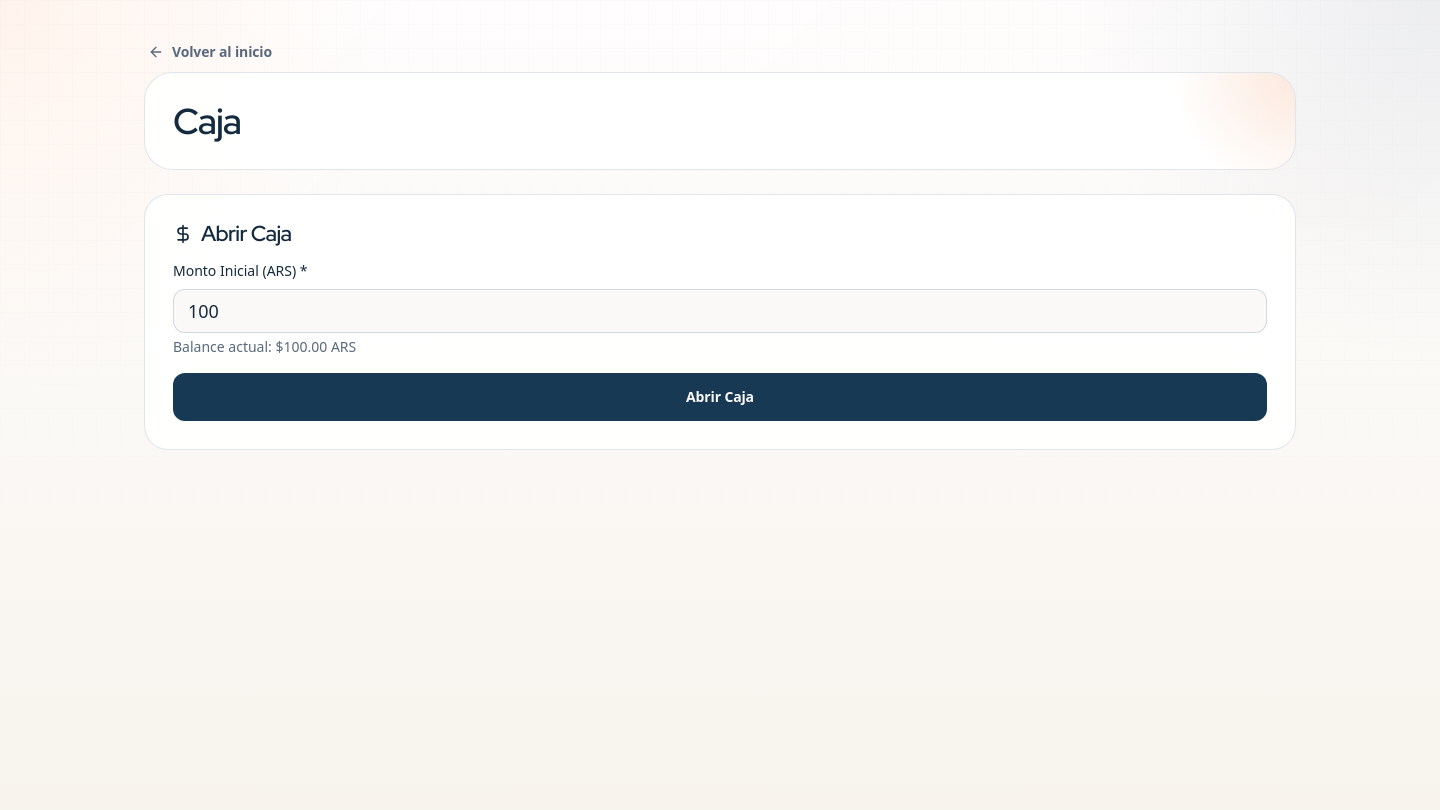
dashboard cash register page › shows difference confirmation and allows cancel on open
Expected: the text "Monto Inicial (ARS) *" is shown, [173, 264, 308, 278]
Replace the text in the number field labelled "Monto Inicial (ARS) *" with "130" at (720, 311), box [173, 289, 1267, 333]
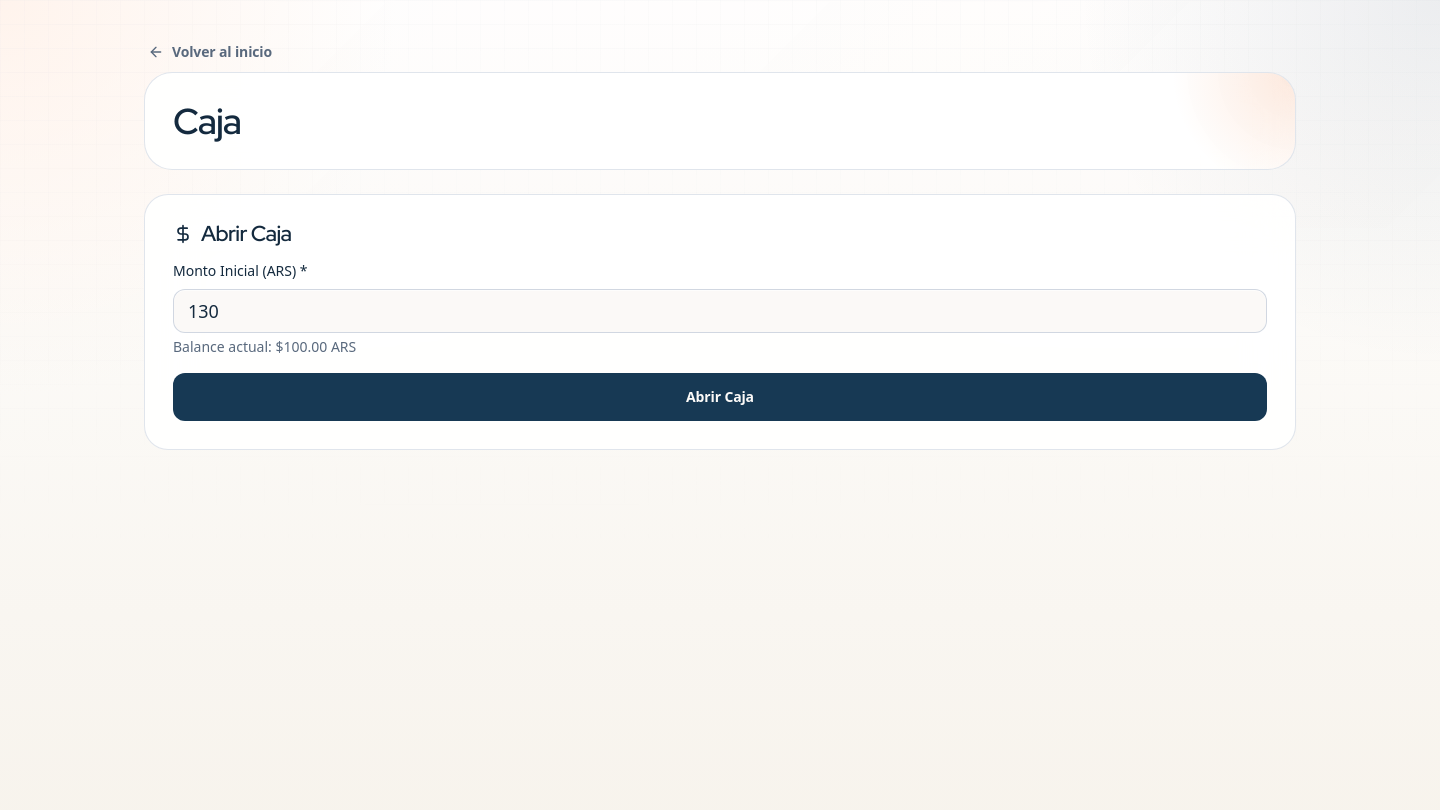
Click the button "Abrir Caja".
click(720, 397)  # box [173, 373, 1267, 421]
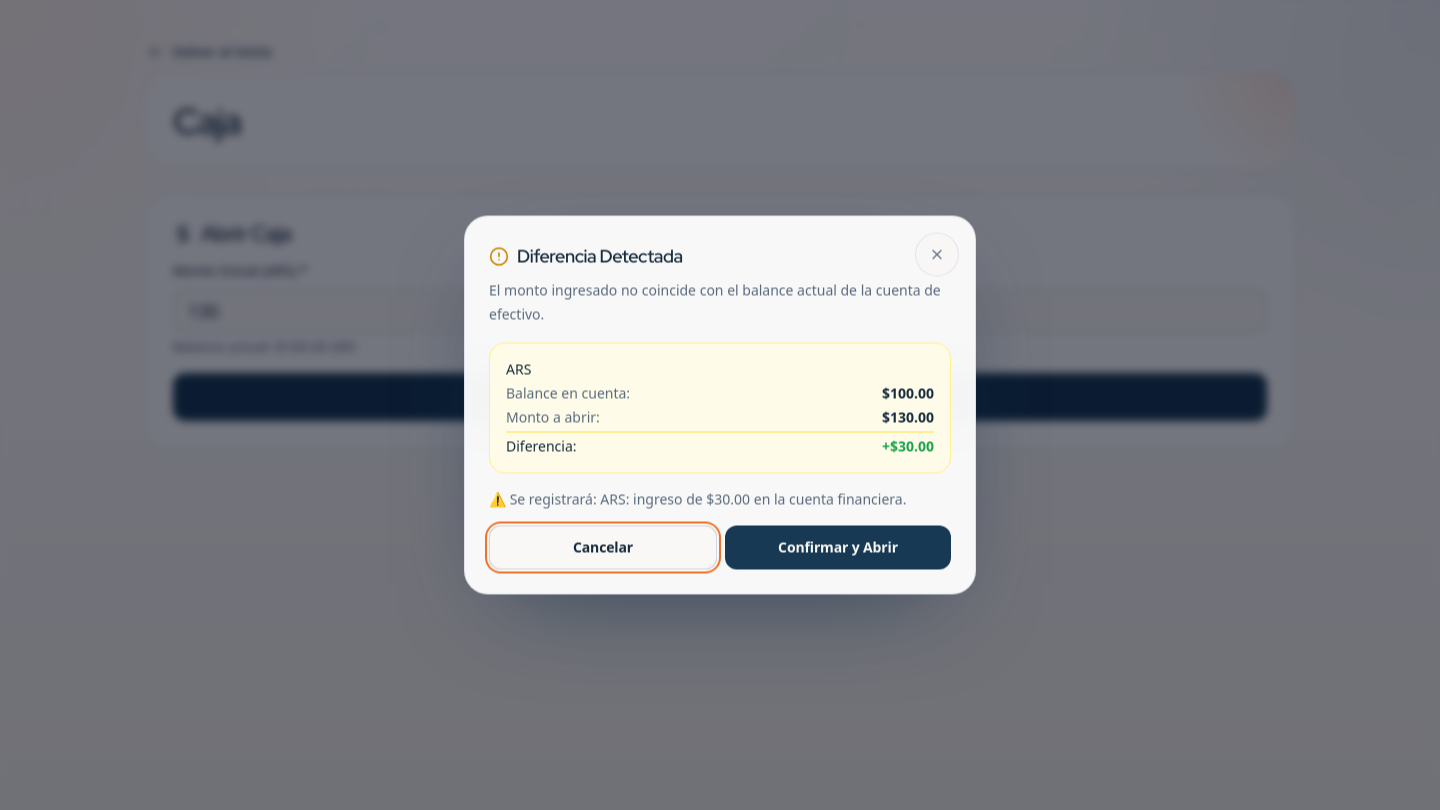
Expected: the heading "Diferencia Detectada" is shown, [489, 244, 683, 268]
Click the button "Cancelar".
click(603, 548)  # box [489, 526, 717, 570]
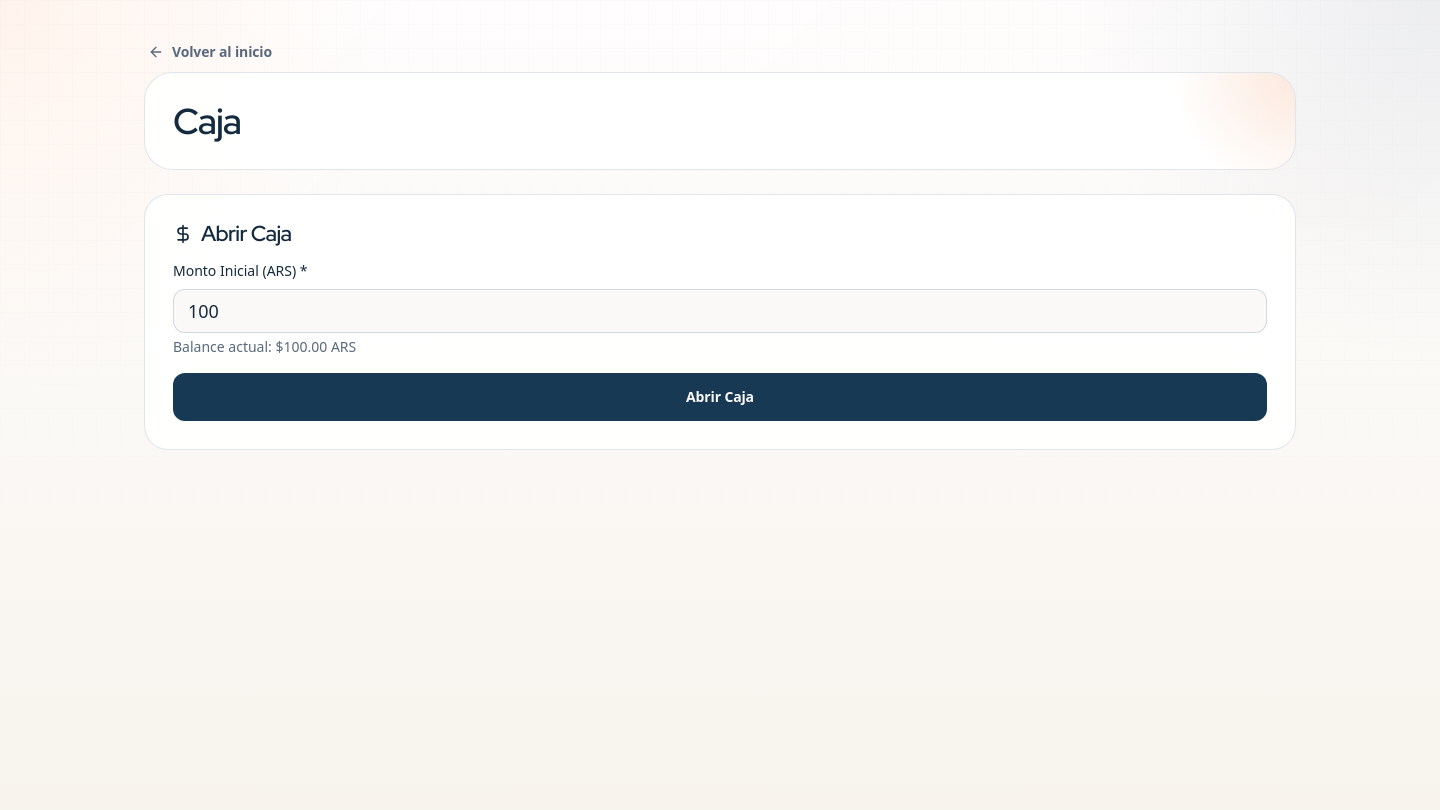
Expected: the heading "Diferencia Detectada" is gone
Expected: the number field labelled "Monto Inicial (ARS) *" holds "100", [173, 289, 1267, 333]
